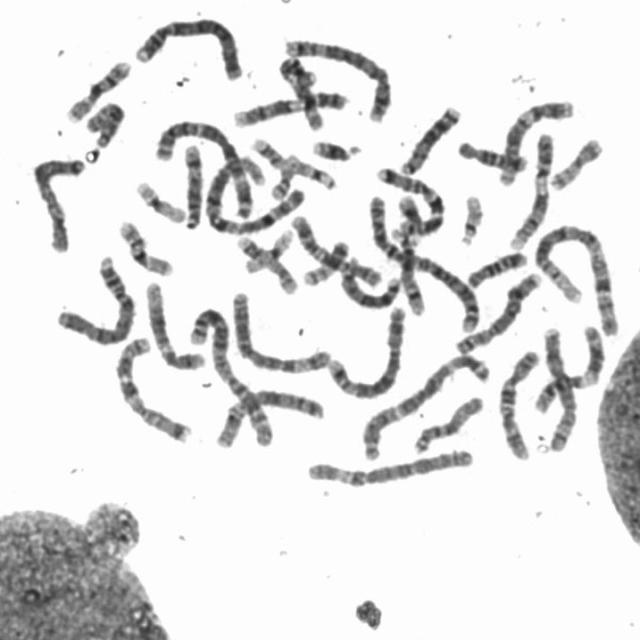A1: (528, 215, 623, 338), (197, 148, 309, 235)
A2: (362, 187, 484, 333), (182, 300, 278, 449)
A3: (355, 346, 494, 461), (149, 112, 257, 219)
B4: (48, 248, 138, 347), (127, 9, 245, 81)
B5: (277, 31, 395, 124), (321, 299, 410, 401)
C10: (284, 208, 386, 290), (492, 342, 544, 462)
C11: (527, 318, 608, 417), (272, 54, 328, 134)
C12: (493, 90, 578, 188), (139, 274, 208, 372)
C6: (226, 284, 335, 376), (300, 441, 477, 490)
C7: (109, 330, 194, 444), (369, 158, 448, 238)
C8: (450, 265, 545, 355), (537, 320, 581, 453)
C9: (503, 126, 557, 252), (226, 83, 352, 129)
D13: (394, 97, 464, 177), (336, 250, 404, 310)
D14: (391, 190, 429, 319), (177, 139, 206, 230)
D15: (407, 388, 487, 456), (79, 101, 126, 148)
E16: (60, 53, 134, 124), (112, 212, 176, 278)
E17: (231, 229, 300, 296), (246, 131, 296, 200)
E18: (461, 243, 530, 290), (452, 134, 530, 172)
F19: (237, 222, 297, 276), (130, 172, 190, 225)
F20: (543, 130, 607, 192), (297, 233, 352, 286)
G21: (306, 132, 363, 162), (392, 188, 426, 238)
G22: (281, 148, 339, 191), (454, 186, 488, 247)
X: (210, 381, 328, 451), (25, 149, 87, 255)
